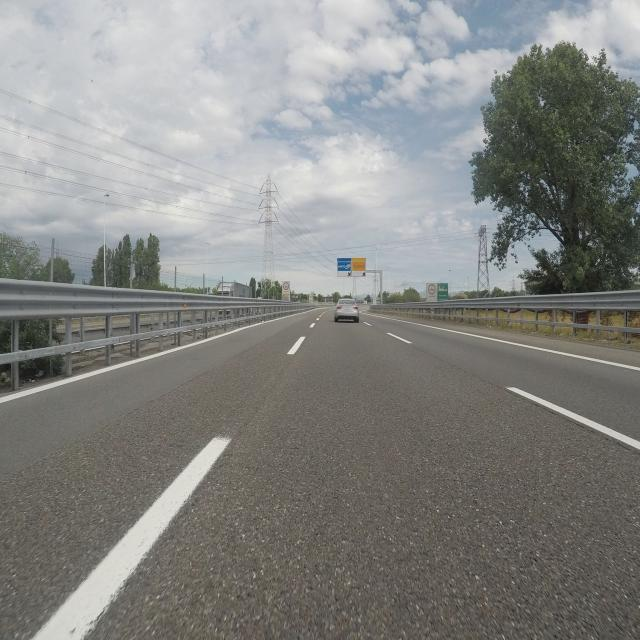car: (334, 297, 360, 323)
